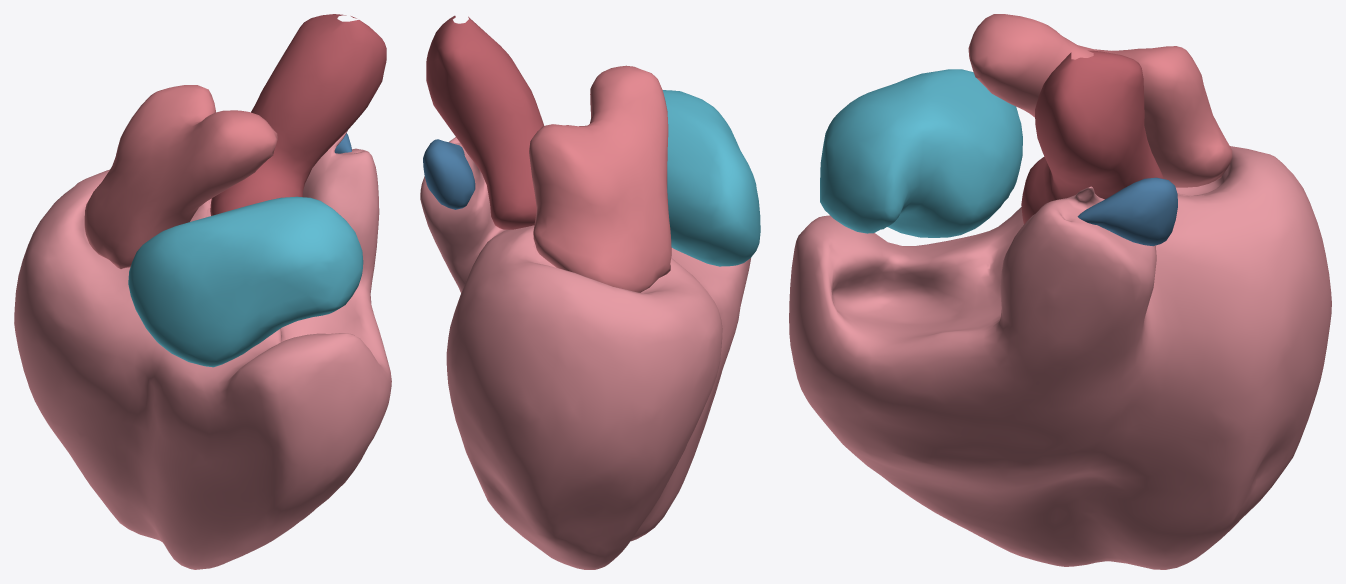
The model's file is frame_28.glb.
3 views of the same model, side by side, from view 1: azimuth 30°, elevation 25°; view 2: azimuth 150°, elevation 25°; view 3: azimuth 270°, elevation 25° (orthographic). The views are drawn at different scales.
Parts seen in each view (by area): view 1: Renderer Node; view 2: Renderer Node; view 3: Renderer Node.
Part boxes in pixels (<box>): Renderer Node: <box>14,14,391,569</box>; Renderer Node: <box>420,15,760,569</box>; Renderer Node: <box>789,14,1331,569</box>.
Size of the model in its own units: 106 by 162 by 131.
